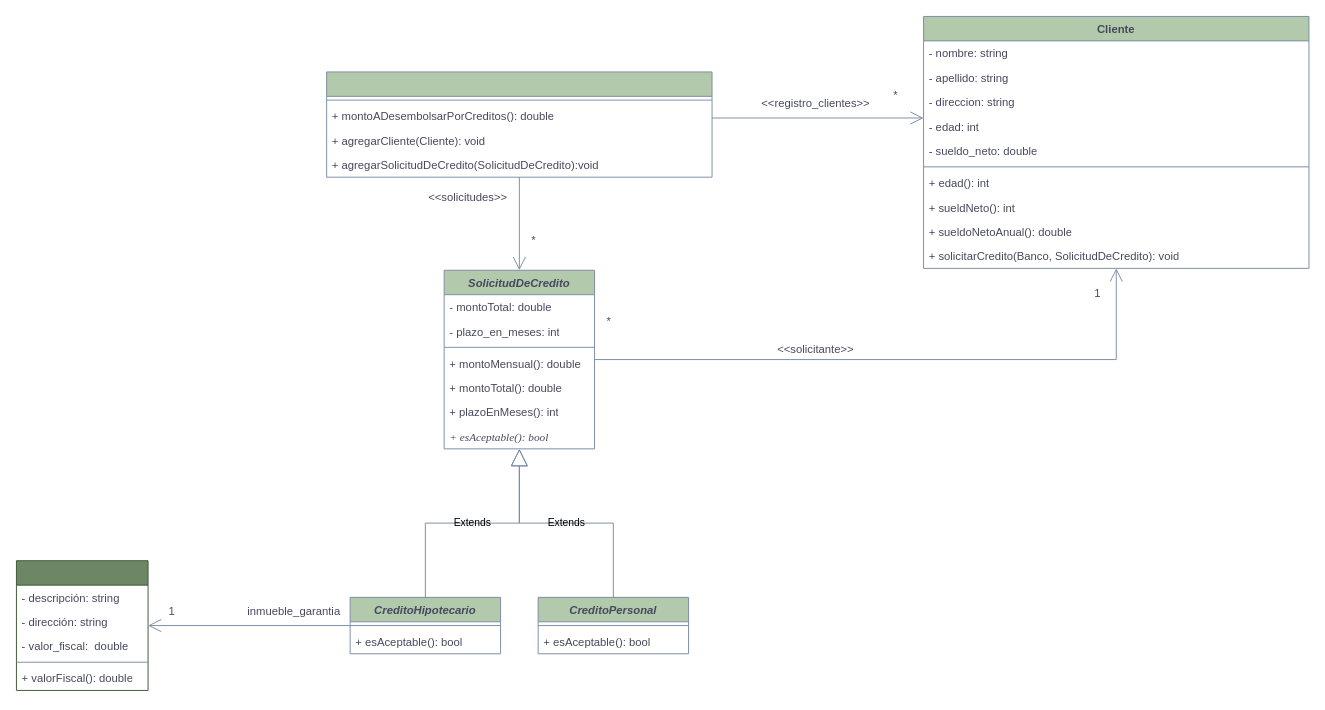
Some shapes in this 1325 by 710 pixel diagram are drawn without their labels. The box of each missing label's shape, as (x1, y1, x2, y2) in pixels:
Banco: (326, 71, 712, 177)
Propiedadinmobiliaria: (16, 560, 148, 690)
